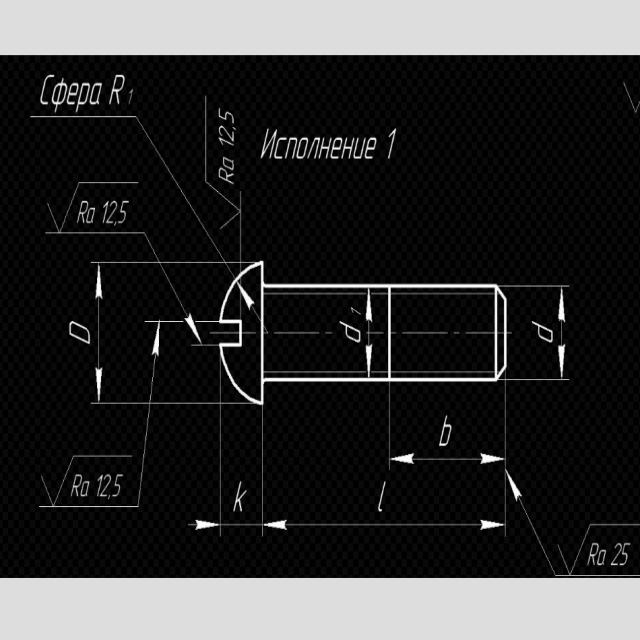marking_line: (258, 404, 511, 471), (261, 470, 508, 538), (187, 405, 290, 542), (137, 222, 206, 346), (507, 282, 570, 384), (503, 468, 557, 576), (137, 321, 166, 507), (203, 156, 251, 260), (94, 264, 103, 403), (363, 288, 375, 377), (236, 283, 258, 316)
numeric: (530, 318, 556, 344), (65, 322, 92, 346), (338, 319, 362, 345), (108, 74, 126, 104), (439, 415, 452, 450), (387, 125, 399, 160), (217, 106, 235, 124), (99, 472, 111, 498), (112, 473, 124, 498), (610, 541, 622, 566), (620, 542, 632, 566), (118, 199, 129, 225), (218, 125, 236, 140), (106, 201, 117, 225), (101, 201, 109, 223), (218, 138, 235, 148), (95, 473, 101, 498), (126, 89, 134, 106), (348, 307, 361, 317)
special_symbol: (32, 453, 136, 508), (47, 177, 86, 233), (553, 520, 591, 576)
